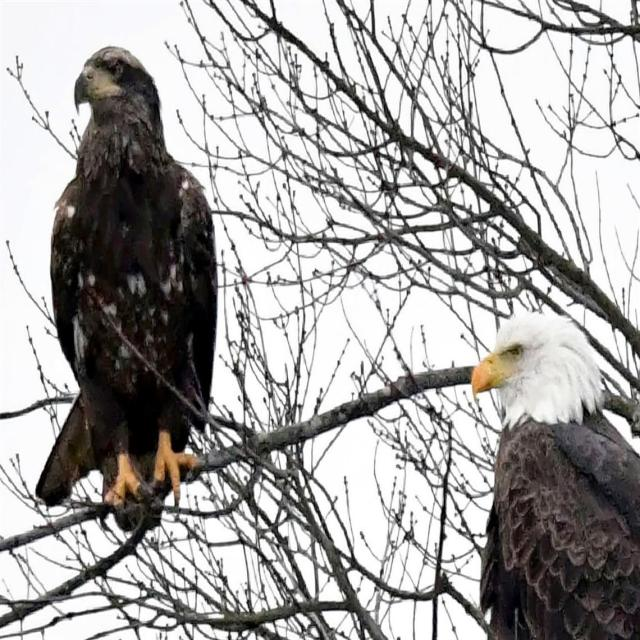Eagle: (36, 39, 223, 519)
